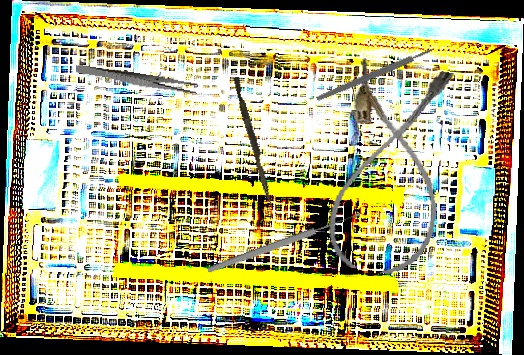Cannula: (321, 56, 462, 281)
Dressing Forceps: (74, 63, 199, 96)
Pusher: (229, 76, 278, 207)
Scalpel Handle: (315, 46, 434, 103)
Surgical Spoon: (206, 210, 362, 275)
